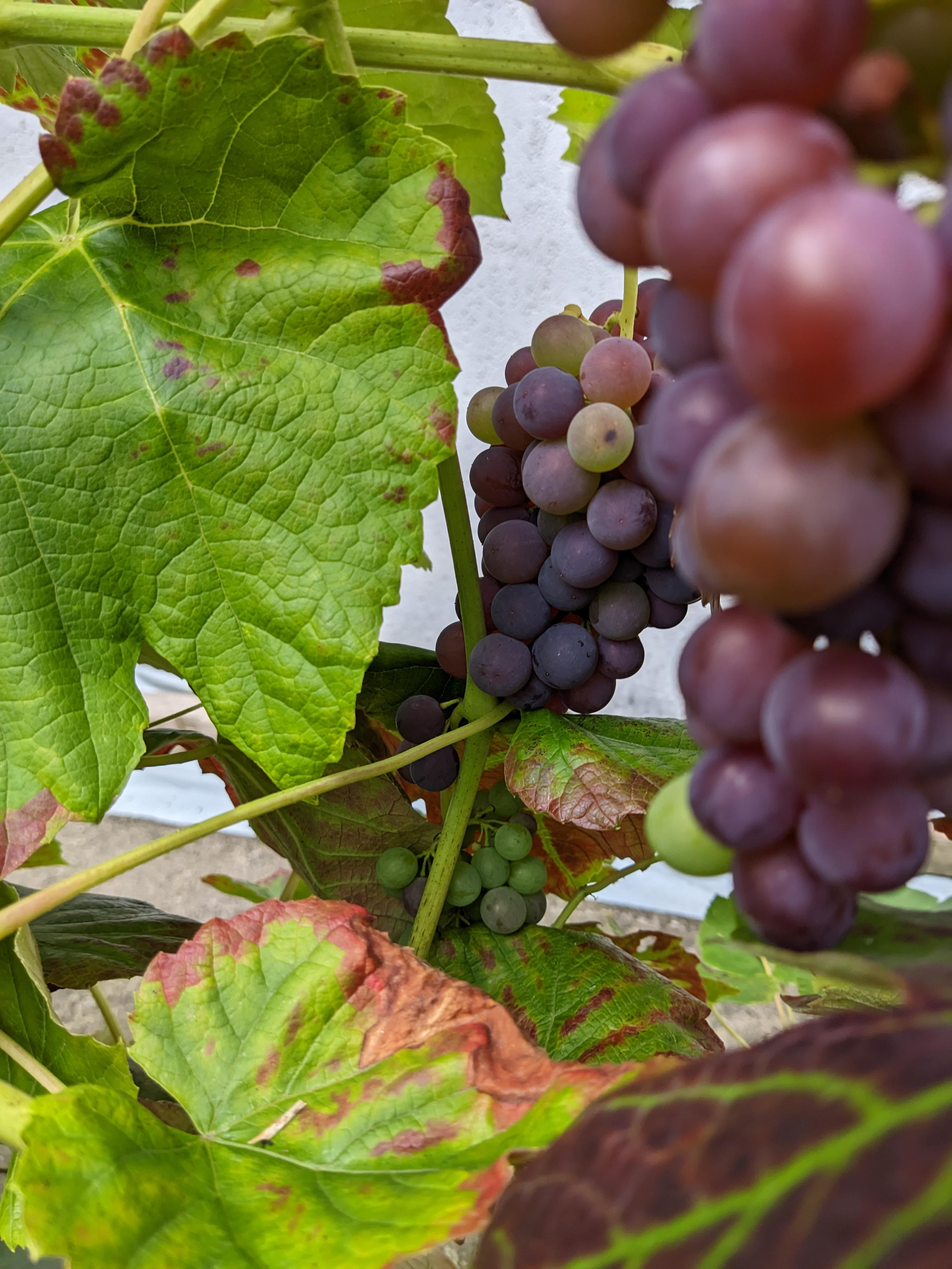Grape Unripe: (529, 0, 952, 960), (397, 275, 726, 792), (379, 784, 548, 940)
